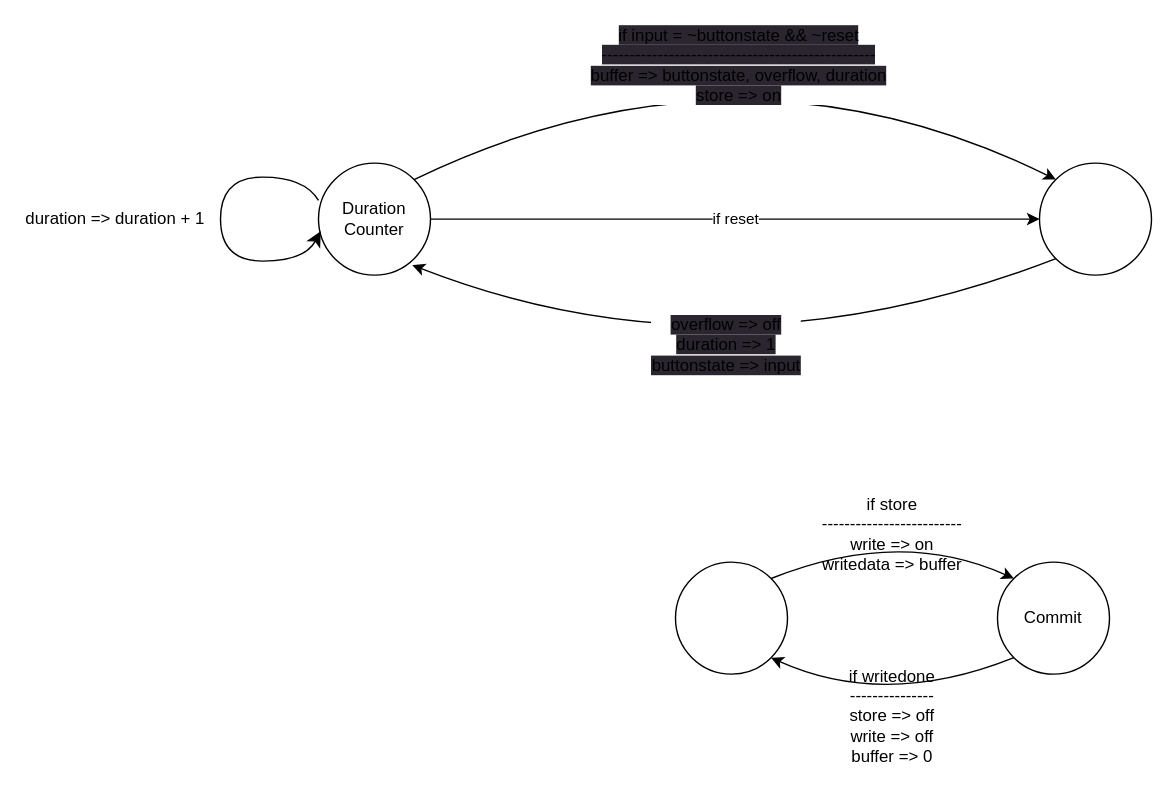
Image size: 1176x791. Some labels were removed from this diagram. The box of each missing label's shape, as (x1, y1, x2, y2) in pixels:
Capture: (1038, 162, 1152, 275)
Wait: (674, 561, 788, 674)
